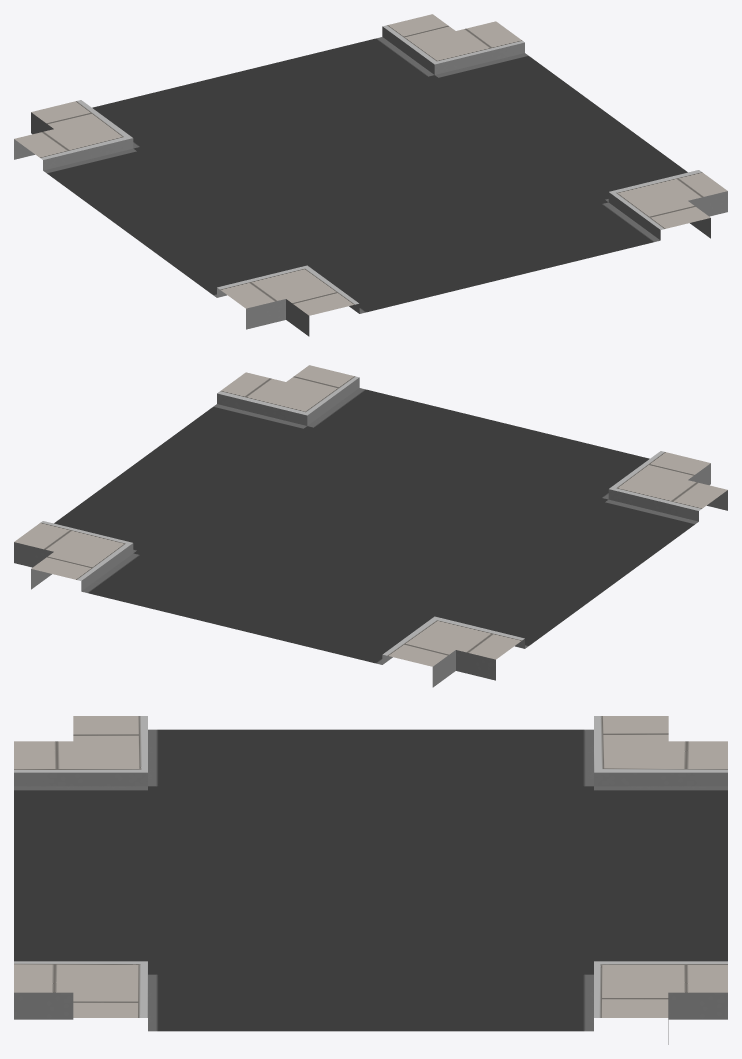
Rendered from SM_Street_1.FBX.
3 renders of one model, top to bottom at view 1: azimuth 30°, elevation 25°; view 2: azimuth 150°, elevation 25°; view 3: azimuth 270°, elevation 25°, orthographic. The views are drawn at different scales.
Visible parts, largest first — view 1: Box001; view 2: Box001; view 3: Box001.
Boxes of the visible parts, x1,y1,x2,y2 form: Box001: (14,14,727,336); Box001: (14,365,727,687); Box001: (14,716,727,1044).
Bounding box in the file's own units: 240 × 10 × 240.
